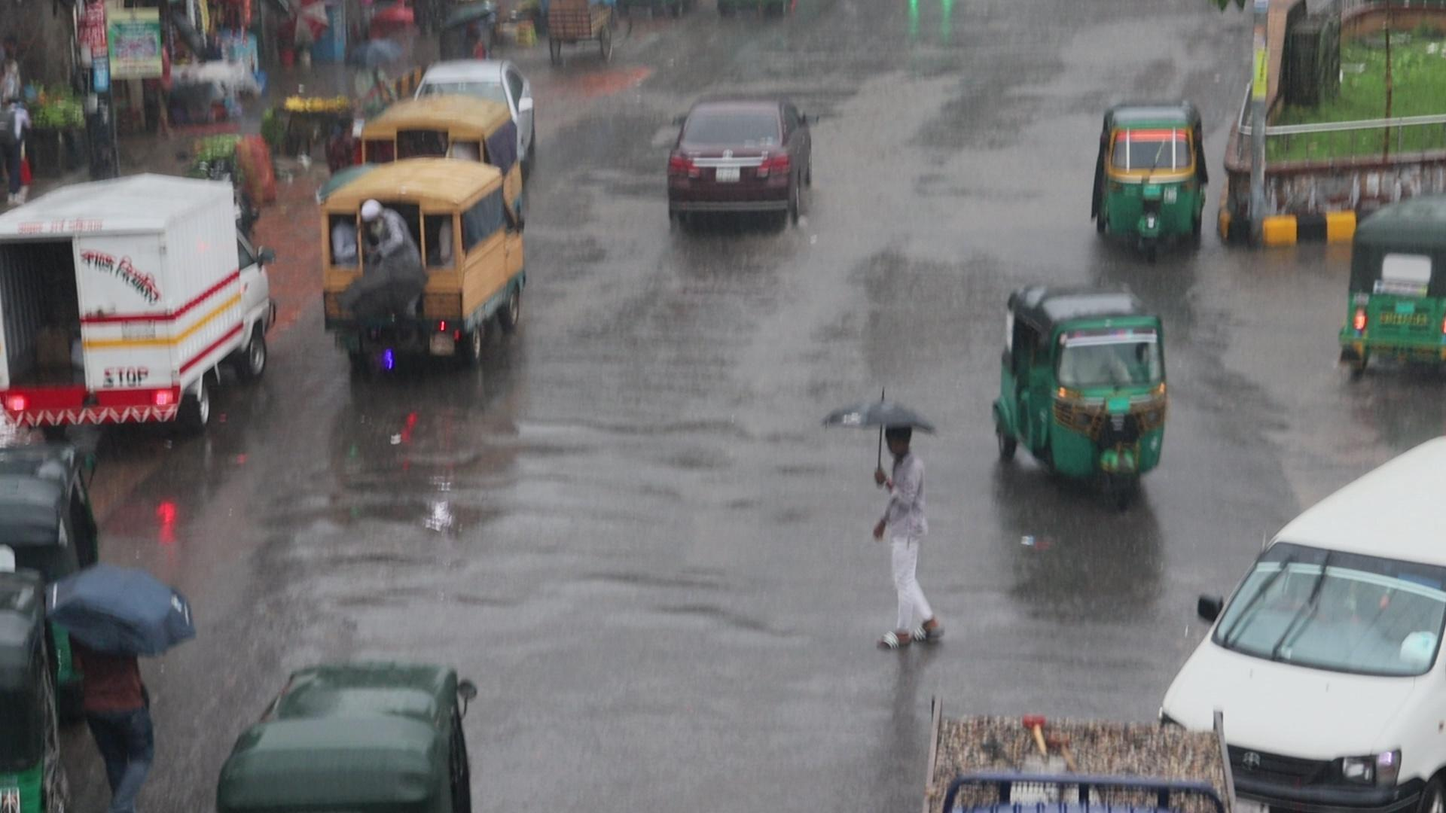Car: (1164, 458, 1446, 797), (665, 86, 816, 233)
Truck: (316, 153, 528, 373)
